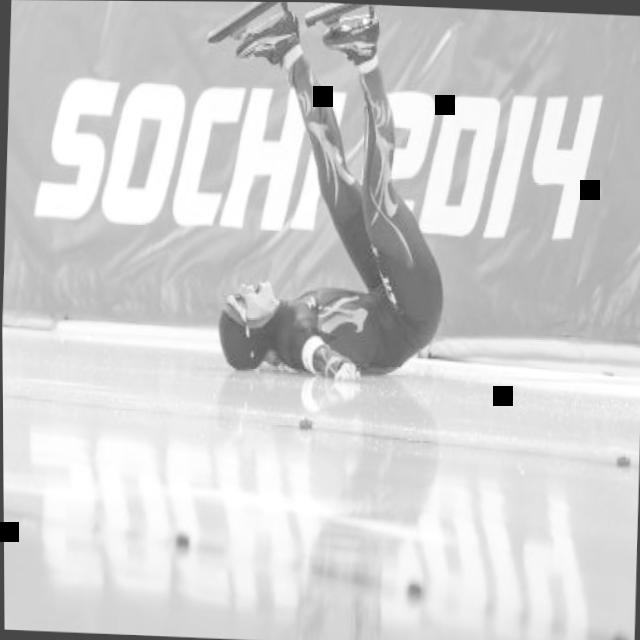Fall-Detected: (180, 1, 483, 387)
